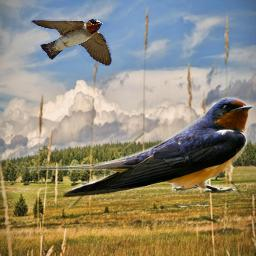Swallow: (15, 95, 254, 198), (30, 19, 112, 66)
